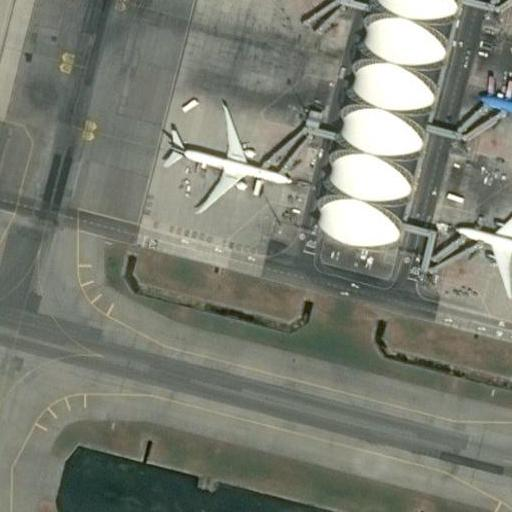Aircraft: (159, 97, 289, 214), (453, 186, 512, 295), (478, 59, 512, 171), (509, 0, 512, 45)
